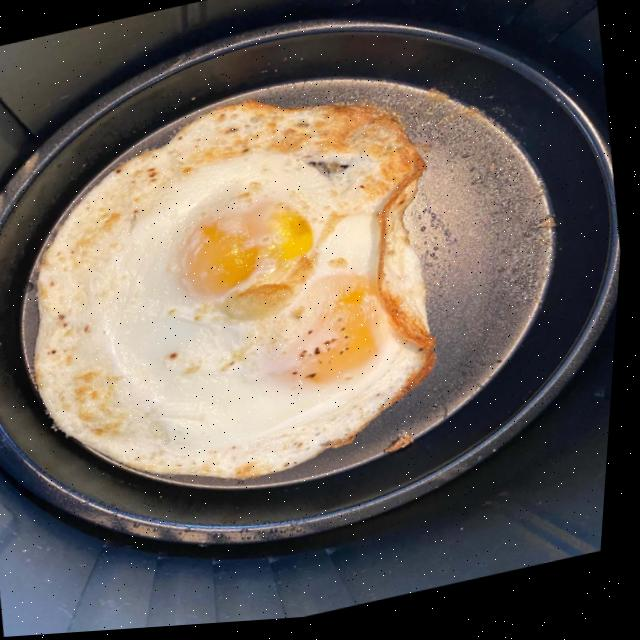Egg: (40, 104, 440, 483)
